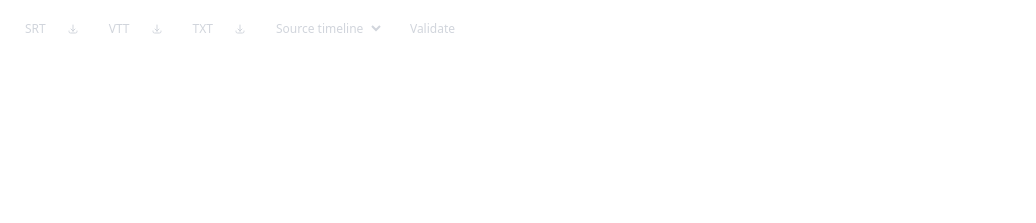
Test: SubtitleExport › should display validation errors when present
Click the button "Validate": [432, 28] box [397,14,468,44]
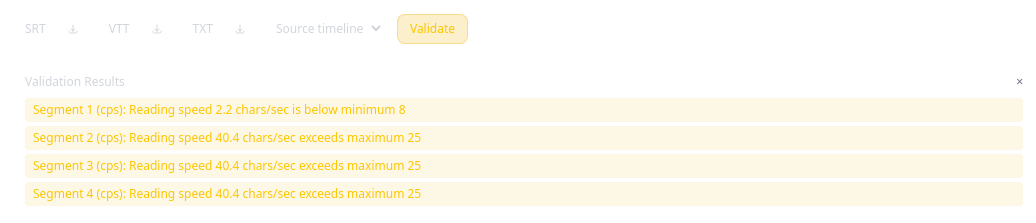
Expected: the text "Validation Results" is shown, [25,74,125,90]
